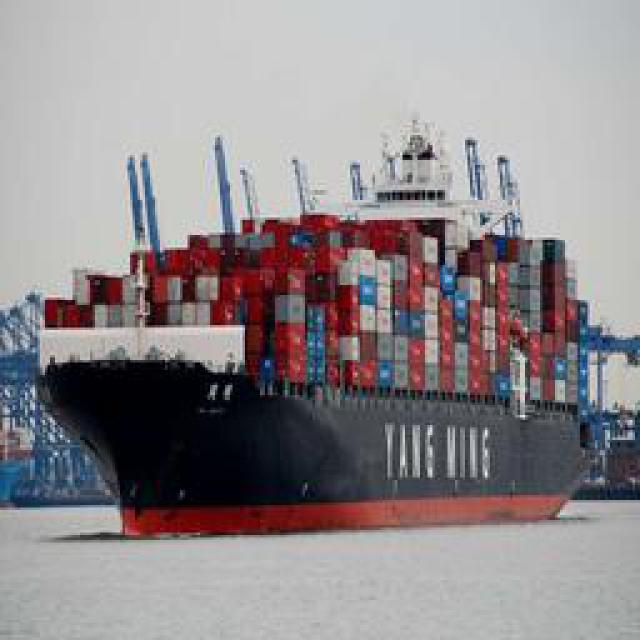Ship: (27, 121, 621, 543)
